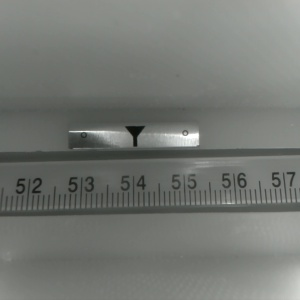2: (31, 178, 42, 193)
3: (83, 177, 94, 193)
4: (135, 175, 146, 190)
5: (14, 178, 26, 194), (270, 172, 281, 187), (119, 175, 129, 191), (220, 173, 230, 189), (67, 177, 77, 193), (170, 174, 180, 190), (186, 174, 196, 190)
6: (236, 172, 247, 188)
7: (286, 171, 296, 187)
finger: (123, 126, 145, 147)
